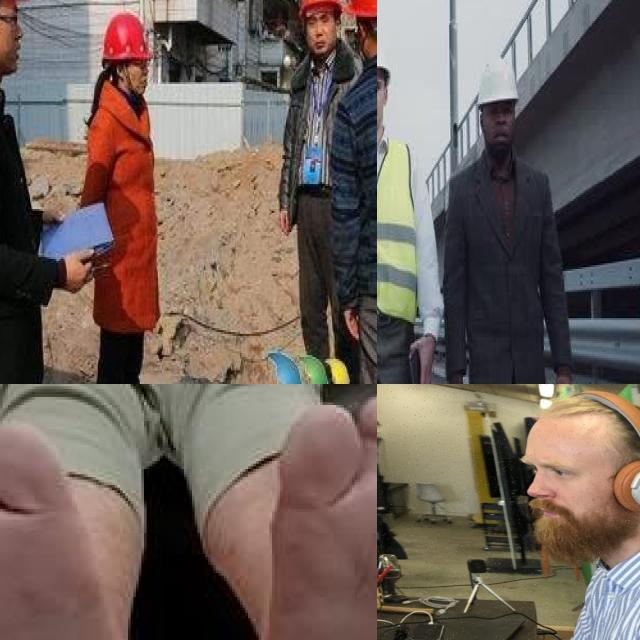Barefoots: (0, 404, 179, 640), (216, 394, 377, 640)
Ear-protection: (507, 384, 640, 572)
No_Ear-Protection: (476, 50, 523, 165), (377, 42, 391, 136), (112, 56, 130, 86)
